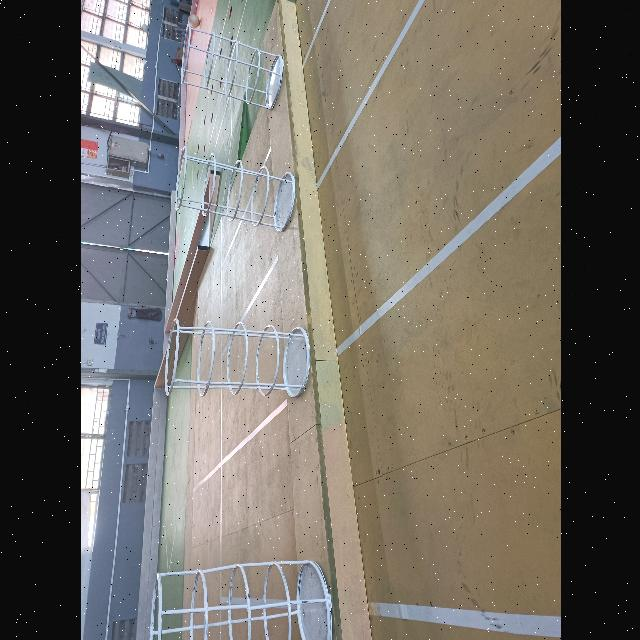S: (148, 559, 333, 640), (162, 316, 312, 401), (173, 144, 298, 236), (178, 23, 285, 115)
